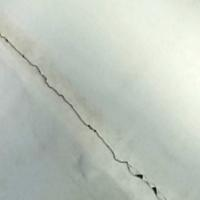crack: (2, 30, 160, 198)
